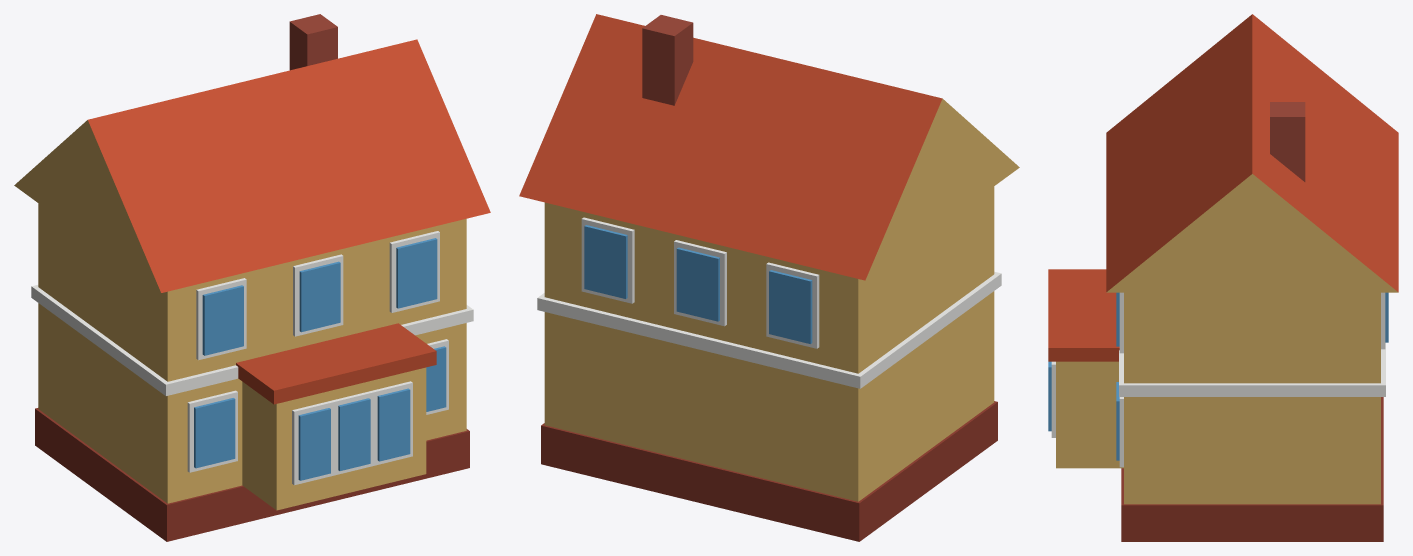
The model's file is 79_vilnius_villa_2.obj.
3 renders of one model, left to right at view 1: azimuth 30°, elevation 25°; view 2: azimuth 150°, elevation 25°; view 3: azimuth 270°, elevation 25°, orthographic. The views are drawn at different scales.
Parts seen in each view (by area): view 1: 79_vilnius_villa_2; view 2: 79_vilnius_villa_2; view 3: 79_vilnius_villa_2.
Boxes of the visible parts, x1,y1,x2,y2 form: 79_vilnius_villa_2: (14,14,490,541); 79_vilnius_villa_2: (519,14,1019,541); 79_vilnius_villa_2: (1048,14,1398,541).
Size of the model in its own units: 1.5 by 1.74 by 1.39.
